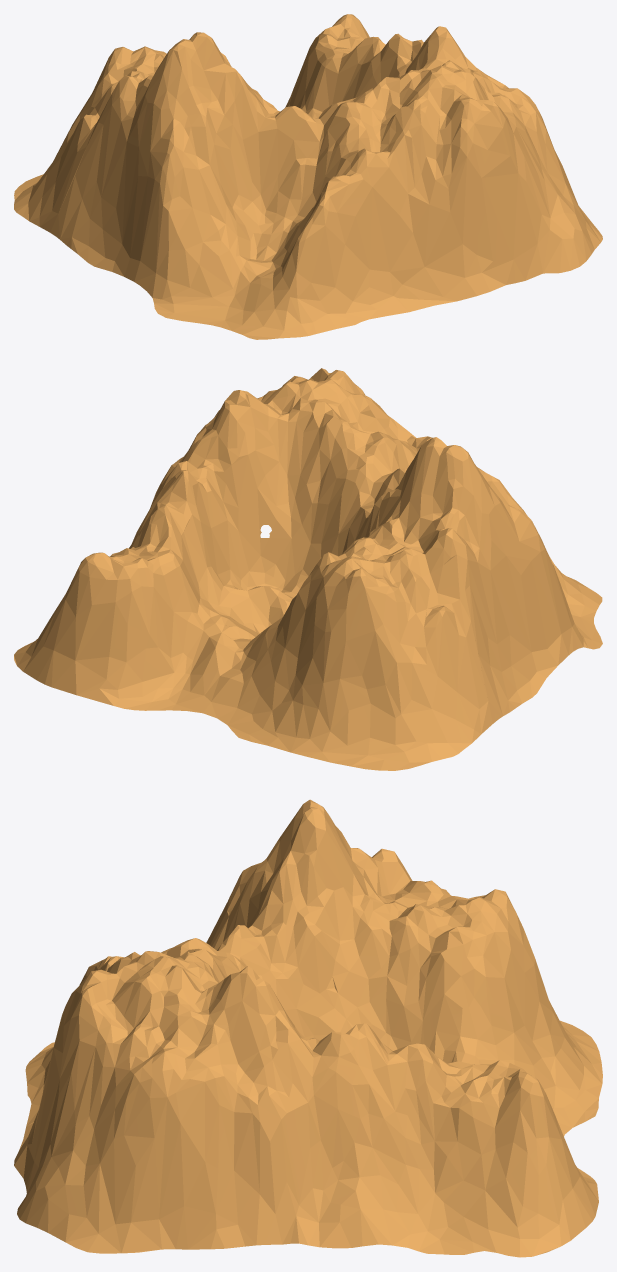
File: Mountain edited 4.fbx
3 renders of one model, top to bottom at view 1: azimuth 30°, elevation 25°; view 2: azimuth 150°, elevation 25°; view 3: azimuth 270°, elevation 25°, orthographic. The views are drawn at different scales.
Parts seen in each view (by area): view 1: Mounting_2; view 2: Mounting_2; view 3: Mounting_2.
Part boxes in pixels (<box>): Mounting_2: <box>14,14,602,339</box>; Mounting_2: <box>14,368,602,770</box>; Mounting_2: <box>14,799,602,1257</box>.
Size of the model in its own units: 1969 by 979 by 1962.
